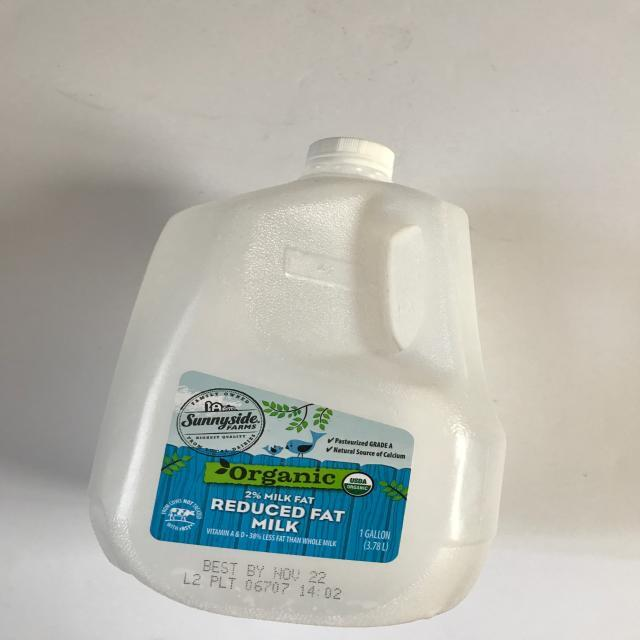plastic: (84, 125, 509, 632)
